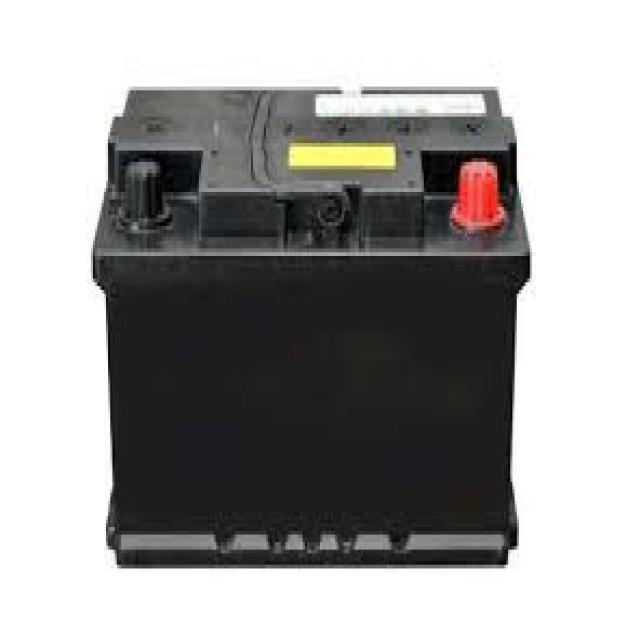Battery: (66, 59, 581, 589)
